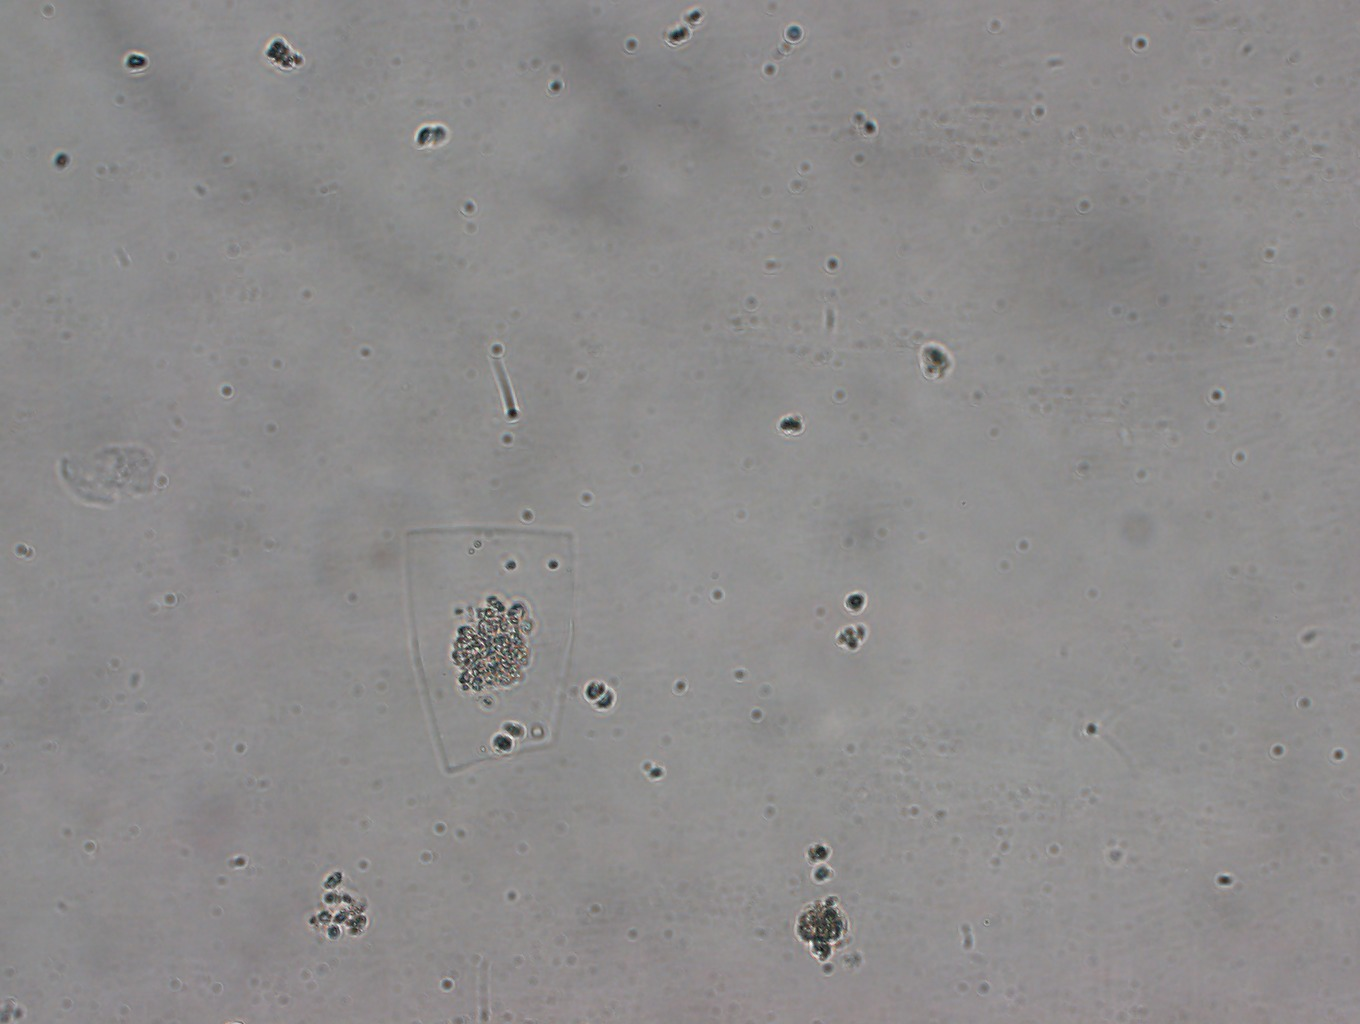helicotheca: (391, 514, 584, 790)
